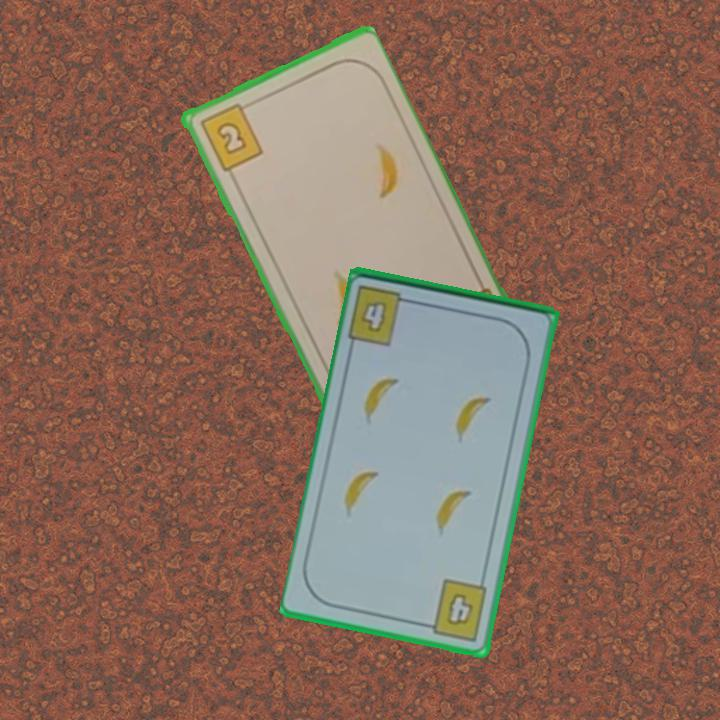2b: (195, 98, 266, 174)
4b: (419, 575, 491, 644), (345, 282, 418, 349)
